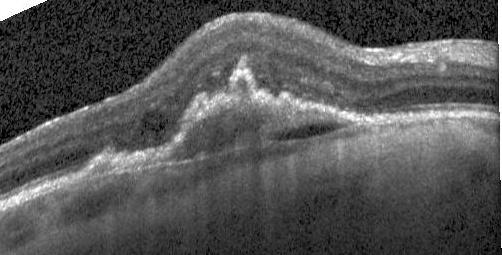intraretinal_cyst: (142, 110, 167, 136)
subretinal_hyperreflective_material: (81, 67, 378, 178)
